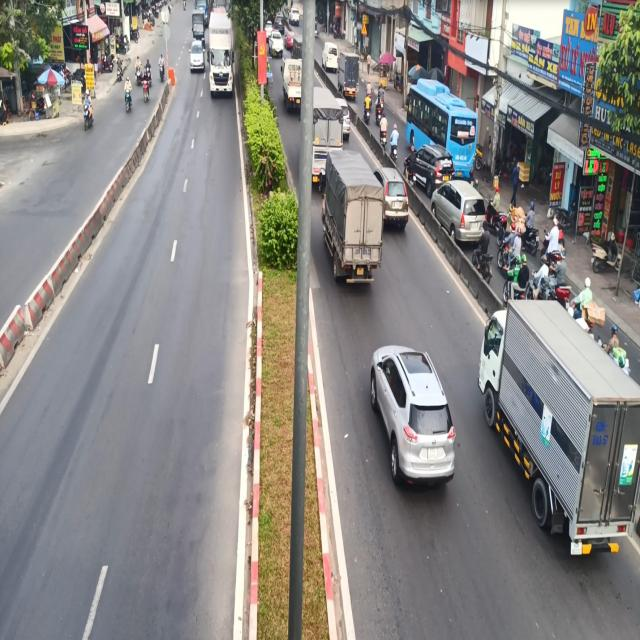car: (368, 328, 462, 500)
truck: (477, 288, 640, 570), (320, 154, 388, 293)
